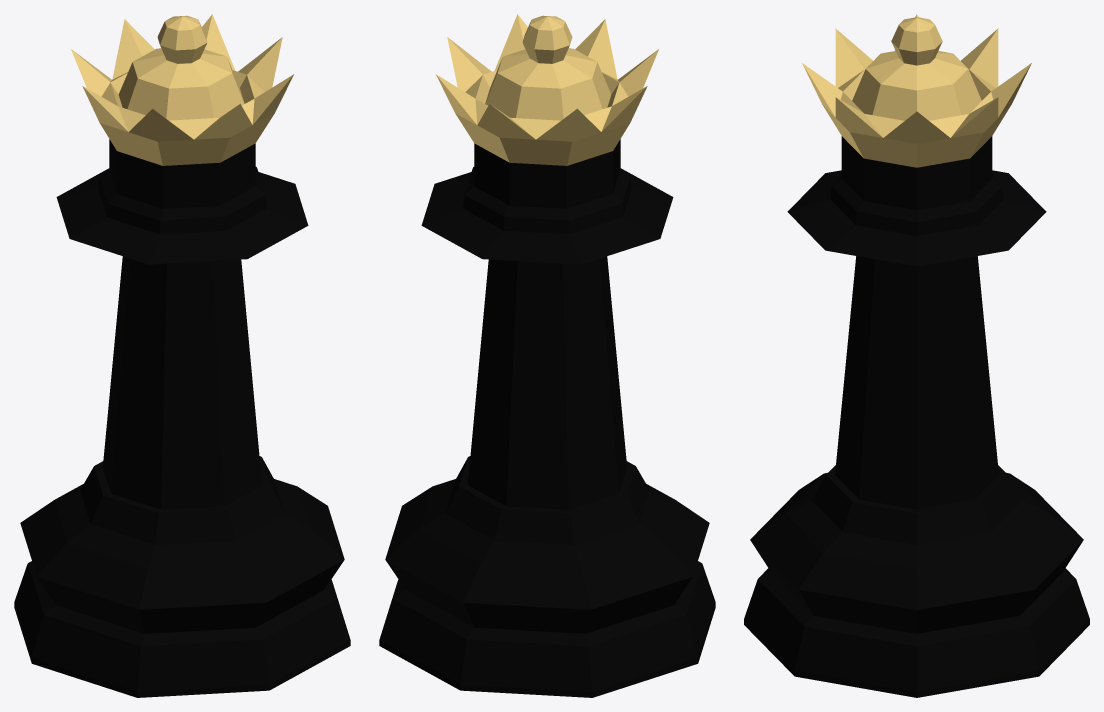
File: gercek5_q_b.glb
3 views of the same model, side by side, from view 1: azimuth 30°, elevation 25°; view 2: azimuth 150°, elevation 25°; view 3: azimuth 270°, elevation 25° (orthographic).
Visible parts, largest first — view 1: q_b; view 2: q_b; view 3: q_b.
Part boxes in pixels (x1,y1,x2,y2): q_b: (14,14,350,697); q_b: (379,14,715,697); q_b: (744,14,1089,697).
Size of the model in its own units: 0.4649 by 0.9 by 0.4649.
